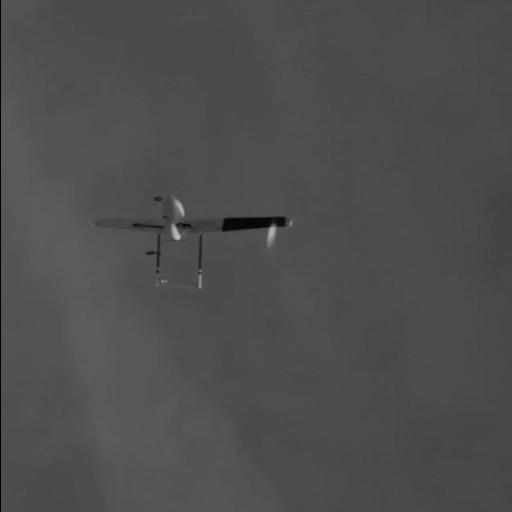uav: (44, 140, 326, 326)
